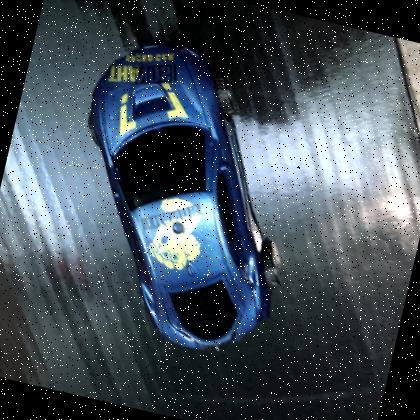Car: (88, 39, 271, 348)
